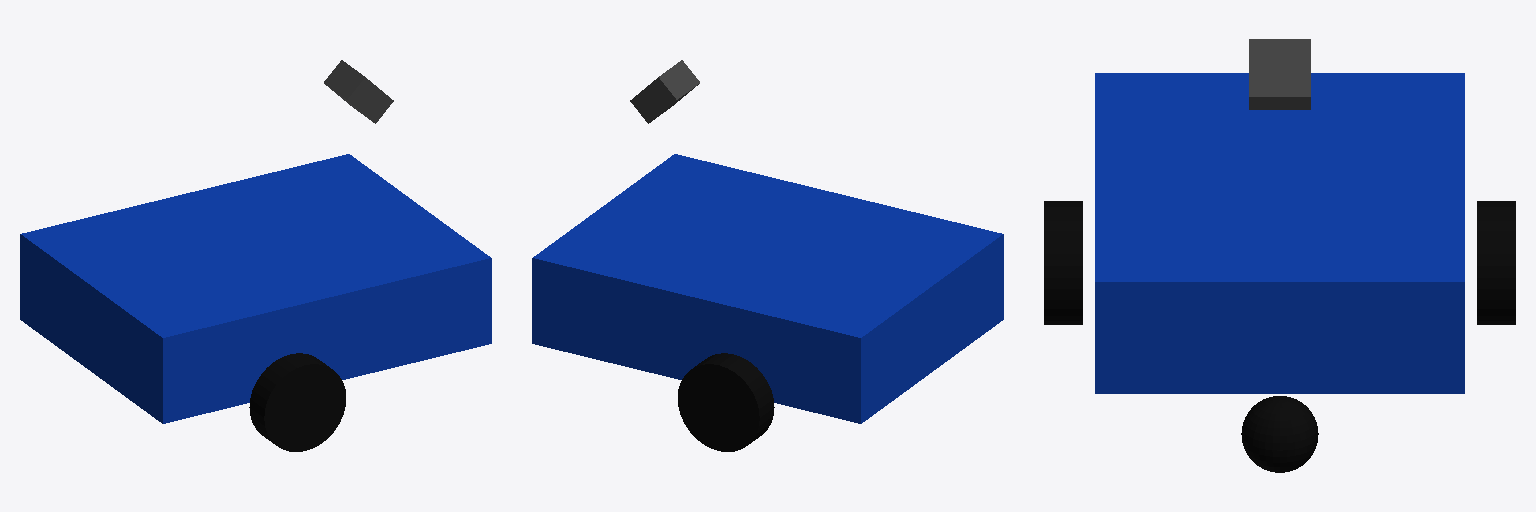
The robot description file, URDF, robot "anc_robot":
<?xml version="1.0" ?>
<!-- =================================================================================== -->
<!-- |    This document was autogenerated by xacro from /home/ashish/AutonomousNavigationCar/simulation/ros2_ws/src/anc_description/urdf/anc_robot.urdf.xacro | -->
<!-- |    EDITING THIS FILE BY HAND IS NOT RECOMMENDED                                 | -->
<!-- =================================================================================== -->
<robot name="anc_robot">
  <material name="blue">
    <color rgba="0.08 0.28 0.72 1.0"/>
  </material>
  <material name="black">
    <color rgba="0.08 0.08 0.08 1.0"/>
  </material>
  <material name="gray">
    <color rgba="0.3 0.3 0.3 1.0"/>
  </material>
  <link name="base_footprint"/>
  <link name="base_link">
    <inertial>
      <mass value="2.0"/>
      <inertia ixx="0.010666666666666666" ixy="0" ixz="0" iyy="0.018133333333333335" iyz="0" izz="0.02666666666666667"/>
    </inertial>
    <visual>
      <geometry>
        <box size="0.32 0.24 0.08"/>
      </geometry>
      <material name="blue"/>
    </visual>
    <collision name="chassis_collision">
      <geometry>
        <box size="0.32 0.24 0.08"/>
      </geometry>
    </collision>
  </link>
  <joint name="base_footprint_to_base_link" type="fixed">
    <parent link="base_footprint"/>
    <child link="base_link"/>
    <origin xyz="0 0 0.08"/>
  </joint>
  <link name="left_wheel_link">
    <inertial>
      <mass value="0.15"/>
      <inertia ixx="6.781250000000002e-05" ixy="0" ixz="0" iyy="0.00012" iyz="0" izz="6.781250000000002e-05"/>
    </inertial>
    <visual>
      <origin rpy="1.57079632679 0 0"/>
      <geometry>
        <cylinder length="0.025" radius="0.04"/>
      </geometry>
      <material name="black"/>
    </visual>
    <!-- Unnamed wheel collision lets libsdformat apply the link-level friction extension. -->
    <collision>
      <origin rpy="1.57079632679 0 0"/>
      <geometry>
        <cylinder length="0.025" radius="0.04"/>
      </geometry>
    </collision>
  </link>
  <joint name="left_wheel_joint" type="continuous">
    <parent link="base_link"/>
    <child link="left_wheel_link"/>
    <origin xyz="-0.04 0.14 -0.04"/>
    <axis xyz="0 1 0"/>
    <limit effort="20.0" velocity="20.0"/>
    <dynamics damping="0.02" friction="0.0"/>
  </joint>
  <link name="right_wheel_link">
    <inertial>
      <mass value="0.15"/>
      <inertia ixx="6.781250000000002e-05" ixy="0" ixz="0" iyy="0.00012" iyz="0" izz="6.781250000000002e-05"/>
    </inertial>
    <visual>
      <origin rpy="1.57079632679 0 0"/>
      <geometry>
        <cylinder length="0.025" radius="0.04"/>
      </geometry>
      <material name="black"/>
    </visual>
    <!-- Unnamed wheel collision lets libsdformat apply the link-level friction extension. -->
    <collision>
      <origin rpy="1.57079632679 0 0"/>
      <geometry>
        <cylinder length="0.025" radius="0.04"/>
      </geometry>
    </collision>
  </link>
  <joint name="right_wheel_joint" type="continuous">
    <parent link="base_link"/>
    <child link="right_wheel_link"/>
    <origin xyz="-0.04 -0.14 -0.04"/>
    <axis xyz="0 1 0"/>
    <limit effort="20.0" velocity="20.0"/>
    <dynamics damping="0.02" friction="0.0"/>
  </joint>
  <link name="caster_link">
    <inertial>
      <mass value="0.05"/>
      <inertia ixx="1.2500000000000006e-05" ixy="0" ixz="0" iyy="1.2500000000000006e-05" iyz="0" izz="1.2500000000000006e-05"/>
    </inertial>
    <visual>
      <geometry>
        <sphere radius="0.025"/>
      </geometry>
      <material name="black"/>
    </visual>
    <collision name="caster_collision">
      <geometry>
        <sphere radius="0.025"/>
      </geometry>
    </collision>
  </link>
  <joint name="caster_fixed_joint" type="fixed">
    <parent link="base_link"/>
    <child link="caster_link"/>
    <origin xyz="0.19 0 -0.055"/>
  </joint>
  <link name="camera_link">
    <inertial>
      <mass value="0.01"/>
      <inertia ixx="0.000001" ixy="0" ixz="0" iyy="0.000001" iyz="0" izz="0.000001"/>
    </inertial>
    <visual>
      <geometry>
        <box size="0.04 0.04 0.025"/>
      </geometry>
      <material name="gray"/>
    </visual>
  </link>
  <joint name="camera_fixed_joint" type="fixed">
    <parent link="base_link"/>
    <child link="camera_link"/>
    <origin rpy="0.0 0.8 0.0" xyz="0.1 0.0 0.16"/>
  </joint>
  <link name="camera_optical_frame"/>
  <joint name="camera_link_to_camera_optical_frame" type="fixed">
    <parent link="camera_link"/>
    <child link="camera_optical_frame"/>
    <origin rpy="-1.57079632679 0 -1.57079632679" xyz="0 0 0"/>
  </joint>
  <link name="imu_link">
    <inertial>
      <mass value="0.01"/>
      <inertia ixx="0.000001" ixy="0" ixz="0" iyy="0.000001" iyz="0" izz="0.000001"/>
    </inertial>
  </link>
  <joint name="imu_fixed_joint" type="fixed">
    <parent link="base_link"/>
    <child link="imu_link"/>
    <origin rpy="0.0 0.0 0.0" xyz="0.0 0.0 0.0"/>
  </joint>
  <gazebo reference="camera_link">
    <sensor name="anc_rgb_camera" type="camera">
      <always_on>true</always_on>
      <visualize>false</visualize>
      <update_rate>2</update_rate>
      <topic>/camera/image_raw</topic>
      <gz_frame_id>camera_optical_frame</gz_frame_id>
      <camera name="anc_rgb_camera">
        <horizontal_fov>1.0471975512</horizontal_fov>
        <image>
          <width>320</width>
          <height>240</height>
          <format>R8G8B8</format>
        </image>
        <clip>
          <near>0.05</near>
          <far>10.0</far>
        </clip>
        <camera_info_topic>/camera/camera_info</camera_info_topic>
        <distortion>
          <k1>0.0</k1>
          <k2>0.0</k2>
          <k3>0.0</k3>
          <p1>0.0</p1>
          <p2>0.0</p2>
        </distortion>
      </camera>
    </sensor>
  </gazebo>
  <gazebo reference="imu_link">
    <sensor name="anc_imu" type="imu">
      <always_on>true</always_on>
      <visualize>false</visualize>
      <update_rate>100.0</update_rate>
      <topic>/imu/data</topic>
      <gz_frame_id>imu_link</gz_frame_id>
      <imu>
        <angular_velocity>
          <x>
            <noise type="gaussian">
              <mean>0.0</mean>
              <stddev>0.002</stddev>
              <bias_mean>0.0</bias_mean>
              <bias_stddev>0.0</bias_stddev>
            </noise>
          </x>
          <y>
            <noise type="gaussian">
              <mean>0.0</mean>
              <stddev>0.002</stddev>
              <bias_mean>0.0</bias_mean>
              <bias_stddev>0.0</bias_stddev>
            </noise>
          </y>
          <z>
            <noise type="gaussian">
              <mean>0.0</mean>
              <stddev>0.002</stddev>
              <bias_mean>0.0</bias_mean>
              <bias_stddev>0.0</bias_stddev>
            </noise>
          </z>
        </angular_velocity>
        <linear_acceleration>
          <x>
            <noise type="gaussian">
              <mean>0.0</mean>
              <stddev>0.02</stddev>
              <bias_mean>0.0</bias_mean>
              <bias_stddev>0.0</bias_stddev>
            </noise>
          </x>
          <y>
            <noise type="gaussian">
              <mean>0.0</mean>
              <stddev>0.02</stddev>
              <bias_mean>0.0</bias_mean>
              <bias_stddev>0.0</bias_stddev>
            </noise>
          </y>
          <z>
            <noise type="gaussian">
              <mean>0.0</mean>
              <stddev>0.02</stddev>
              <bias_mean>0.0</bias_mean>
              <bias_stddev>0.0</bias_stddev>
            </noise>
          </z>
        </linear_acceleration>
      </imu>
    </sensor>
  </gazebo>
  <gazebo reference="base_link">
    <mu1>0.8</mu1>
    <mu2>0.8</mu2>
    <sensor name="chassis_contact" type="contact">
      <always_on>true</always_on>
      <update_rate>25</update_rate>
      <!-- Gazebo merges the fixed base joint; reference its resulting SDF collisions. -->
      <contact>
        <collision>base_footprint_fixed_joint_lump__chassis_collision_collision</collision>
        <collision>base_footprint_fixed_joint_lump__caster_collision_collision_1</collision>
      </contact>
    </sensor>
  </gazebo>
  <gazebo reference="left_wheel_link">
    <mu1>1.2</mu1>
    <mu2>1.2</mu2>
  </gazebo>
  <gazebo reference="right_wheel_link">
    <mu1>1.2</mu1>
    <mu2>1.2</mu2>
  </gazebo>
  <gazebo reference="caster_link">
    <mu1>0.2</mu1>
    <mu2>0.2</mu2>
  </gazebo>
  <gazebo>
    <plugin filename="gz-sim-joint-state-publisher-system" name="gz::sim::systems::JointStatePublisher">
      <topic>/world/anc_phase2_test/model/anc_robot/joint_state</topic>
    </plugin>
    <plugin filename="gz-sim-diff-drive-system" name="gz::sim::systems::DiffDrive">
      <left_joint>left_wheel_joint</left_joint>
      <right_joint>right_wheel_joint</right_joint>
      <wheel_separation>0.28</wheel_separation>
      <wheel_radius>0.04</wheel_radius>
      <odom_publish_frequency>30.0</odom_publish_frequency>
      <topic>/model/anc_robot/cmd_vel</topic>
      <odom_topic>/model/anc_robot/odom</odom_topic>
      <tf_topic>/model/anc_robot/tf</tf_topic>
      <frame_id>odom</frame_id>
      <child_frame_id>base_footprint</child_frame_id>
      <min_linear_velocity>-0.25</min_linear_velocity>
      <max_linear_velocity>0.25</max_linear_velocity>
      <min_angular_velocity>-1.0</min_angular_velocity>
      <max_angular_velocity>1.0</max_angular_velocity>
    </plugin>
  </gazebo>
</robot>

--- Facts derived from the render (not from the file) ---
Views: 3 orthographic renders of the robot side by side, from view 1: azimuth 30°, elevation 25°; view 2: azimuth 150°, elevation 25°; view 3: azimuth 270°, elevation 25°.
Robot: anc_robot — 8 links, 7 joints (2 continuous, 5 fixed); root link base_footprint; default pose: every joint at zero.
Links seen in each view (by area): view 1: base_link, right_wheel_link, camera_link; view 2: base_link, left_wheel_link, camera_link; view 3: base_link, left_wheel_link, right_wheel_link, caster_link, camera_link.
Boxes of the visible links, bbox=[...] form: base_link: bbox=[20, 154, 491, 423]; right_wheel_link: bbox=[249, 353, 345, 451]; camera_link: bbox=[324, 60, 393, 123]; base_link: bbox=[532, 154, 1003, 423]; left_wheel_link: bbox=[678, 353, 774, 451]; camera_link: bbox=[630, 60, 699, 123]; base_link: bbox=[1095, 73, 1464, 393]; left_wheel_link: bbox=[1477, 201, 1515, 324]; right_wheel_link: bbox=[1044, 201, 1082, 324]; caster_link: bbox=[1241, 396, 1318, 472]; camera_link: bbox=[1249, 39, 1310, 109].
Bounding box of the posed robot: 0.375 × 0.305 × 0.2631 m (x, y, z).
Geometry: primitives only (box / cylinder / sphere), no mesh files.
